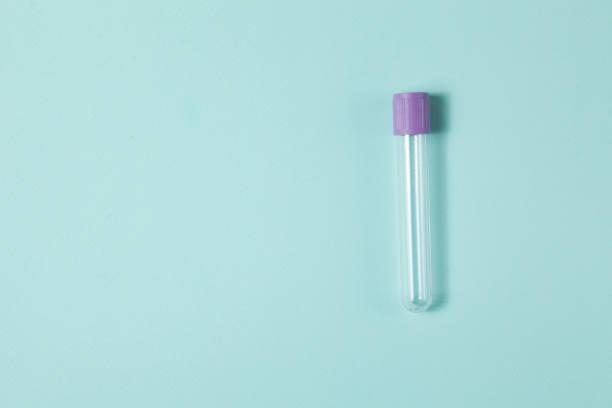Test tube: (382, 65, 443, 317)
